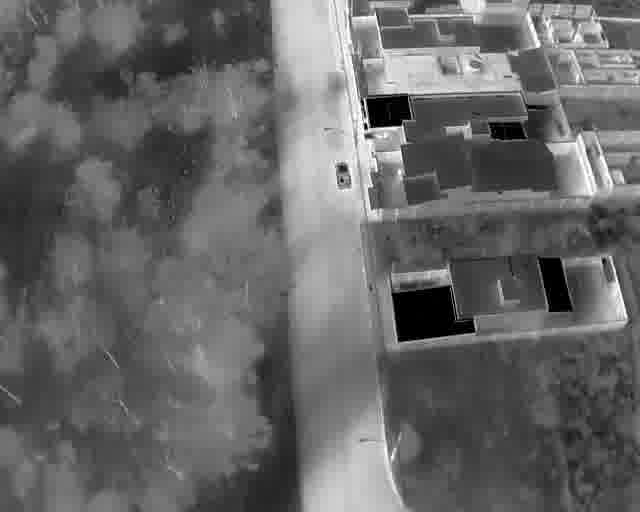car: (334, 158, 352, 190)
